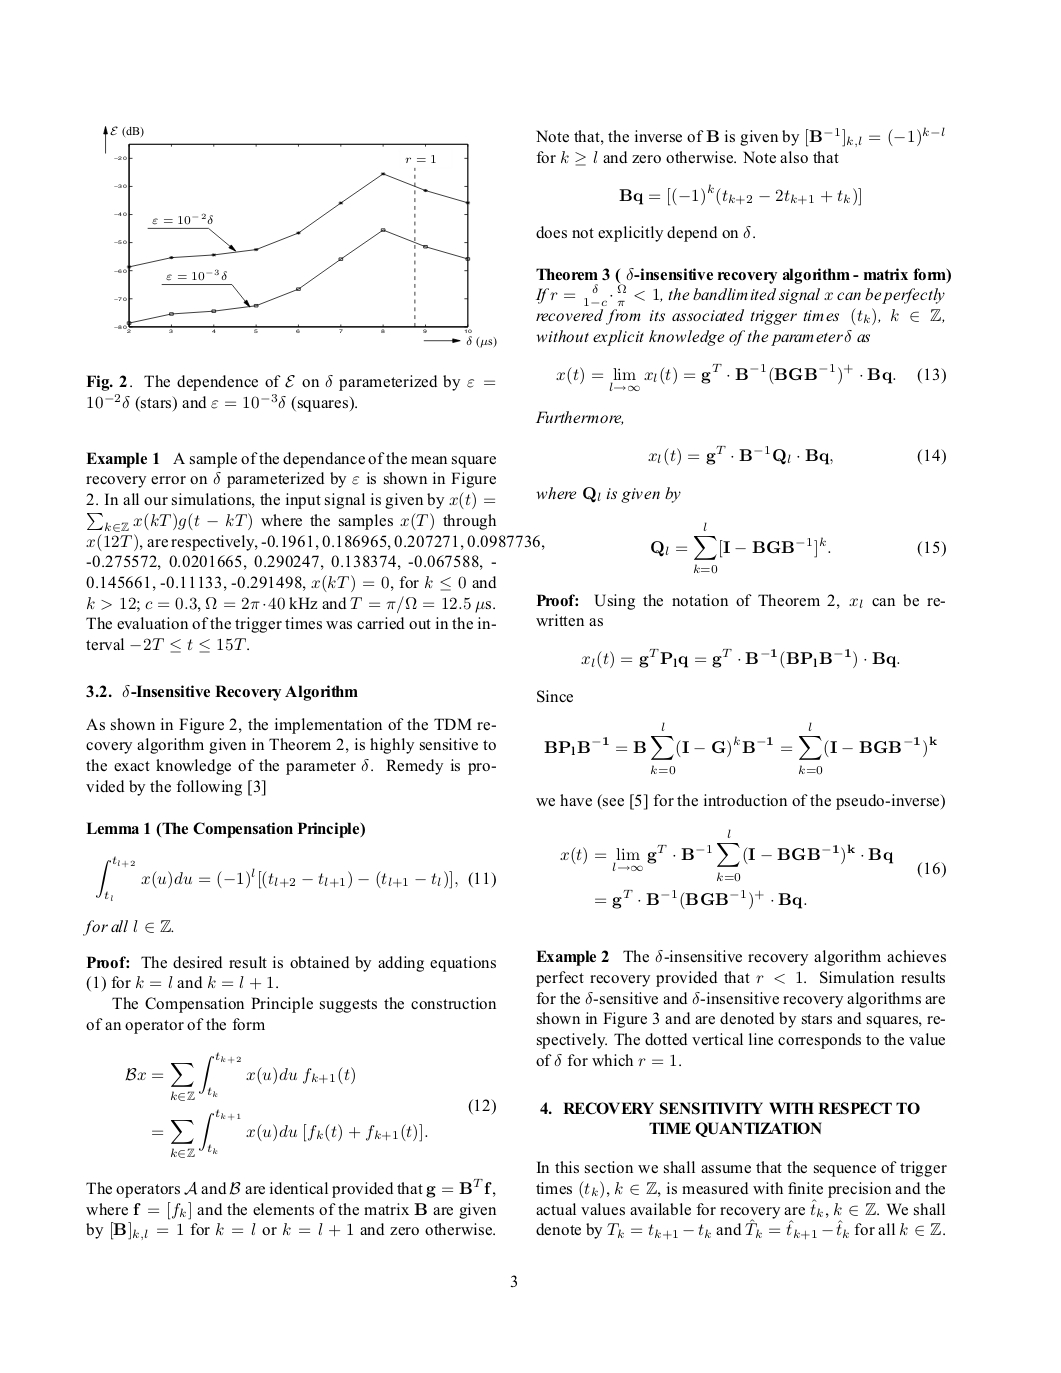figure: (103, 126, 496, 347)
formula: (125, 1051, 495, 1158), (544, 722, 936, 775), (559, 829, 945, 882), (96, 855, 495, 900), (651, 522, 945, 573), (556, 362, 945, 392), (581, 647, 899, 669), (648, 444, 945, 466), (619, 183, 860, 206), (595, 888, 806, 911)
